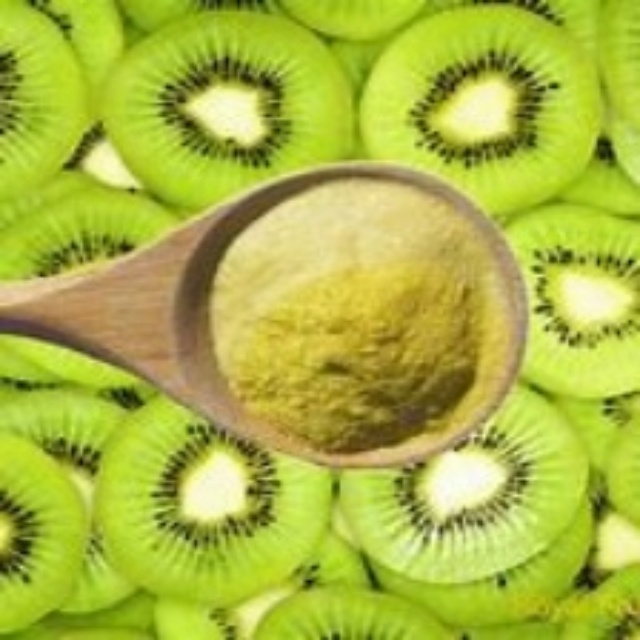kiwi: (341, 380, 593, 620), (94, 385, 322, 602), (102, 18, 357, 209), (374, 22, 594, 209)
